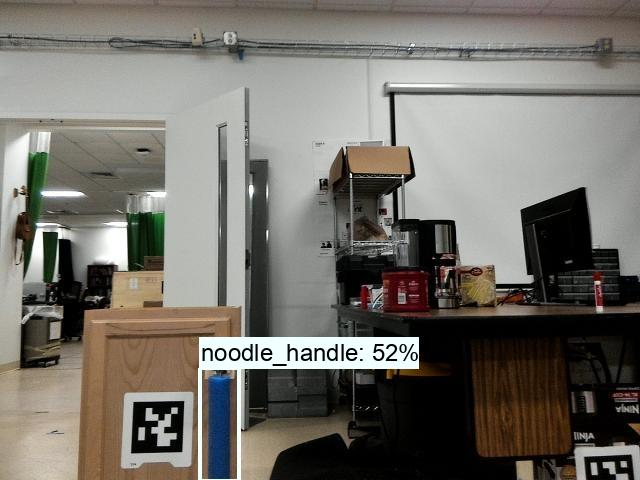noodle_handle: (204, 370, 234, 480)
